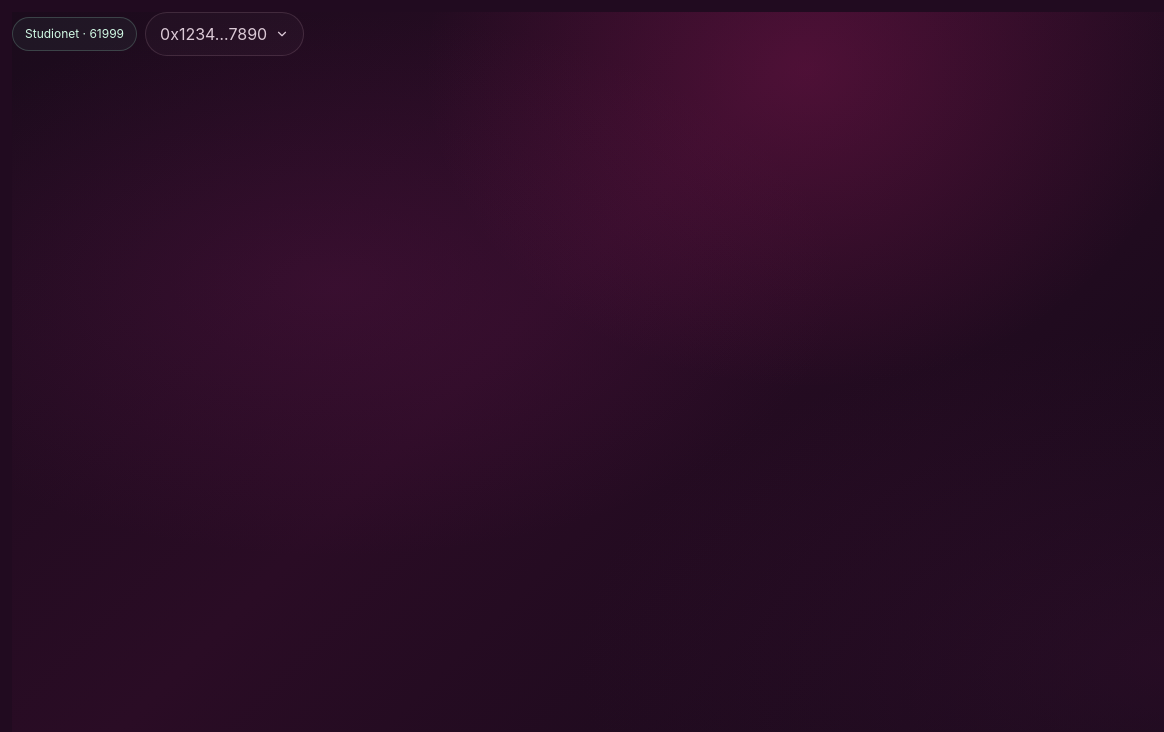
injected wallet control › shows the connected wallet menu with copy, explorer and disconnect actions
The width and height of the screenshot is (1164, 732).
Click the button "0x1234…7890" at (225, 34), box [145, 12, 304, 56]
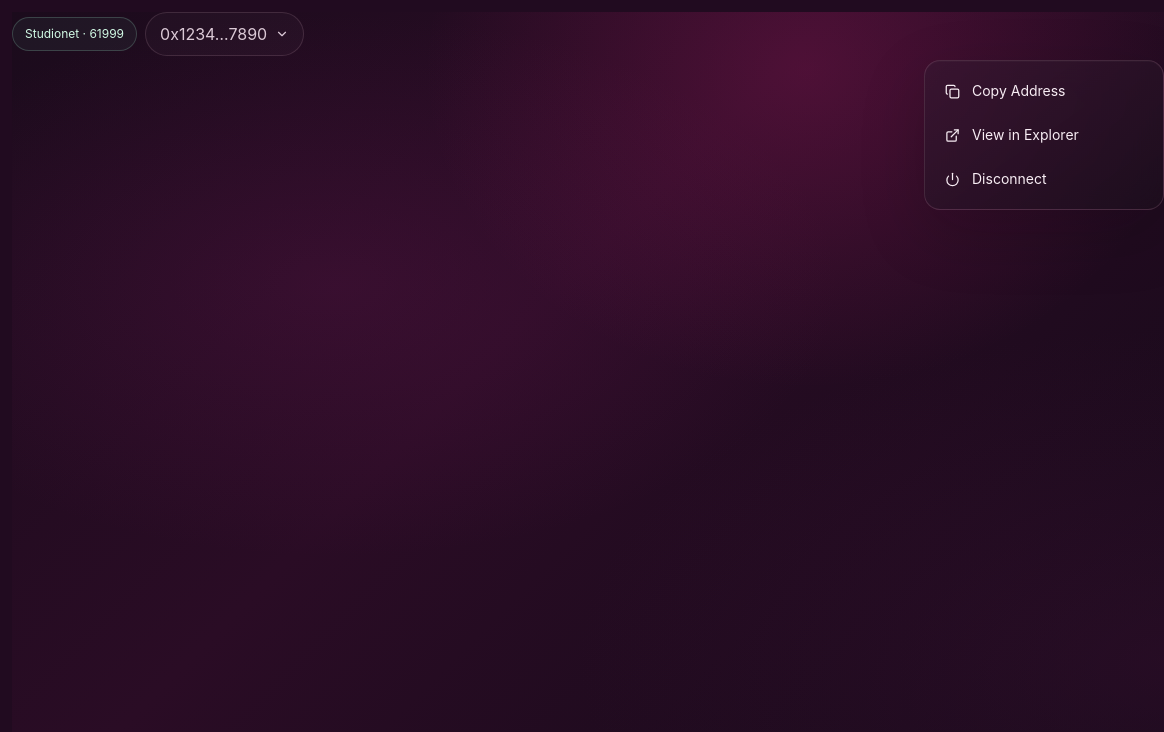
Expected: the menu item "Copy Address" is shown, [933, 69, 1155, 113]
Click the menu item "Disconnect" at (1044, 179), box [933, 157, 1155, 201]
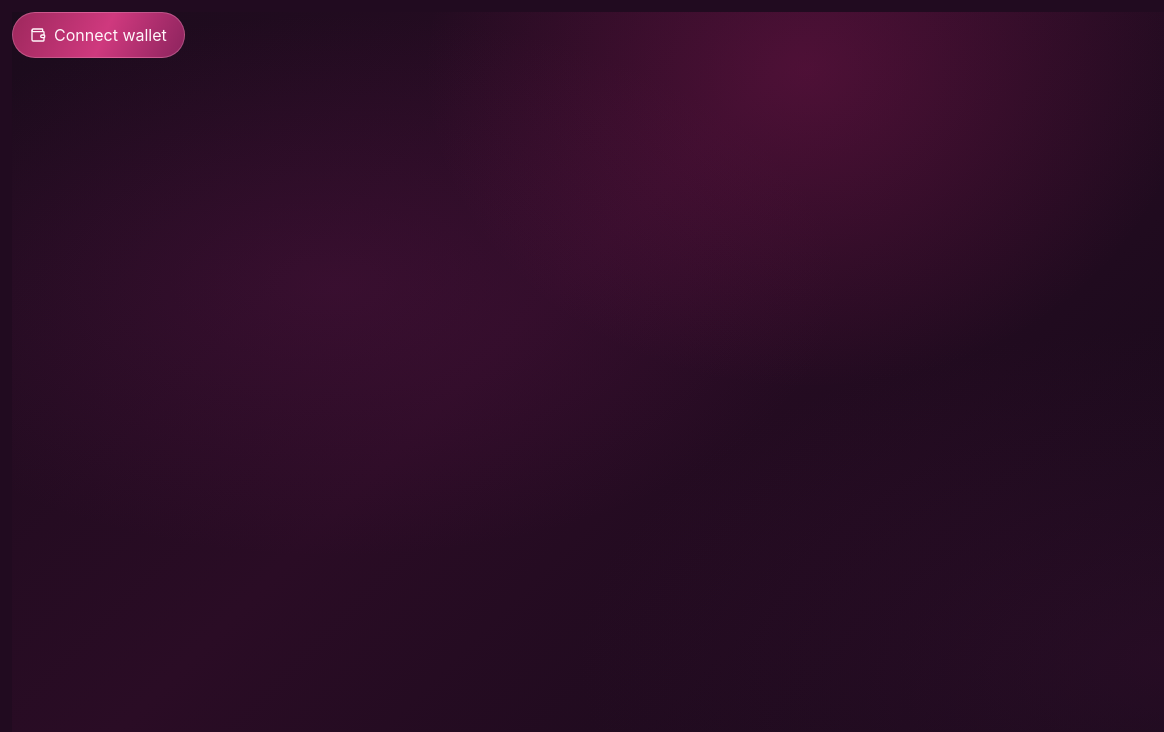
Expected: the button "Connect wallet" is shown, [12, 12, 185, 58]
